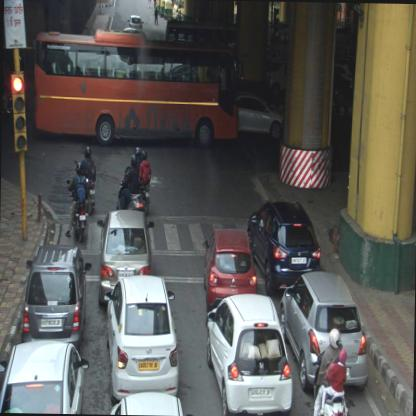bus: (32, 27, 239, 146)
car: (277, 270, 370, 394), (204, 292, 294, 415), (102, 272, 180, 404), (246, 200, 322, 297), (20, 243, 92, 343), (0, 337, 90, 414), (94, 207, 154, 306), (202, 229, 258, 309), (236, 94, 283, 140), (127, 12, 144, 32)
motorcycle: (311, 325, 350, 415), (64, 162, 88, 243), (116, 154, 142, 212), (130, 146, 152, 213), (80, 146, 95, 216)
